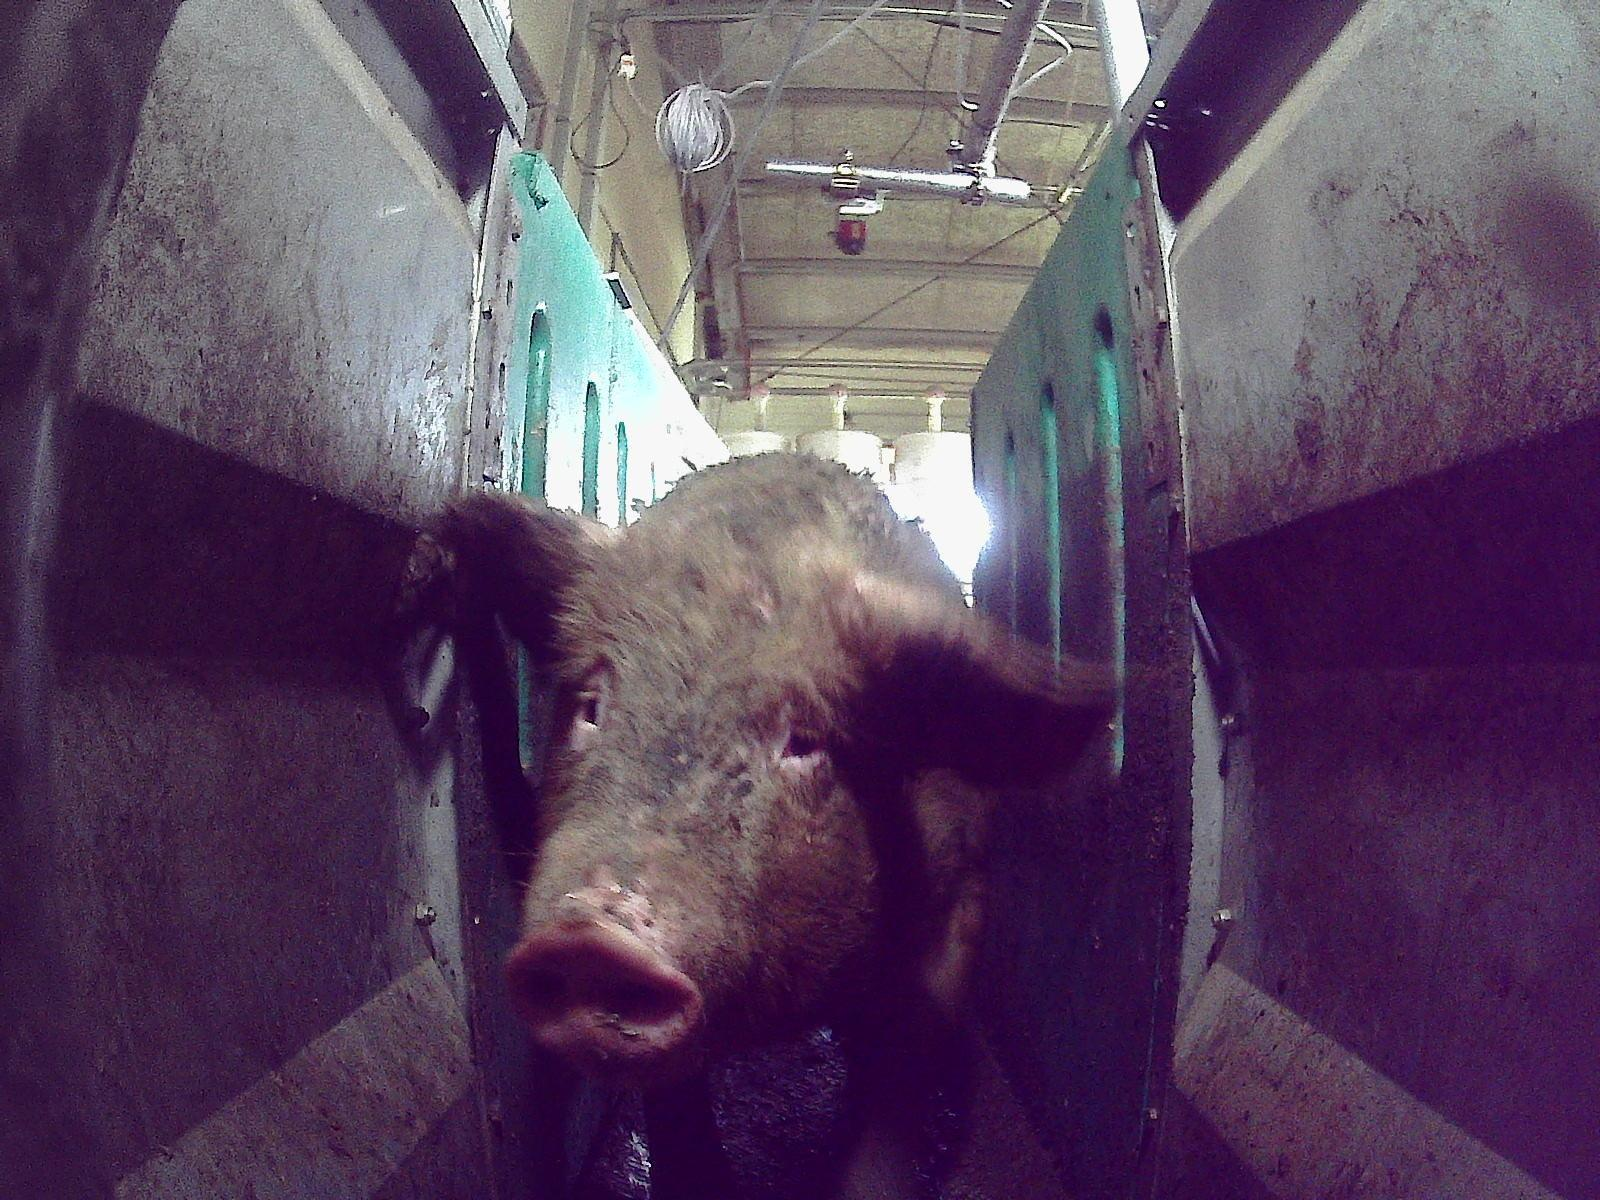Face: (506, 556, 891, 1083)
